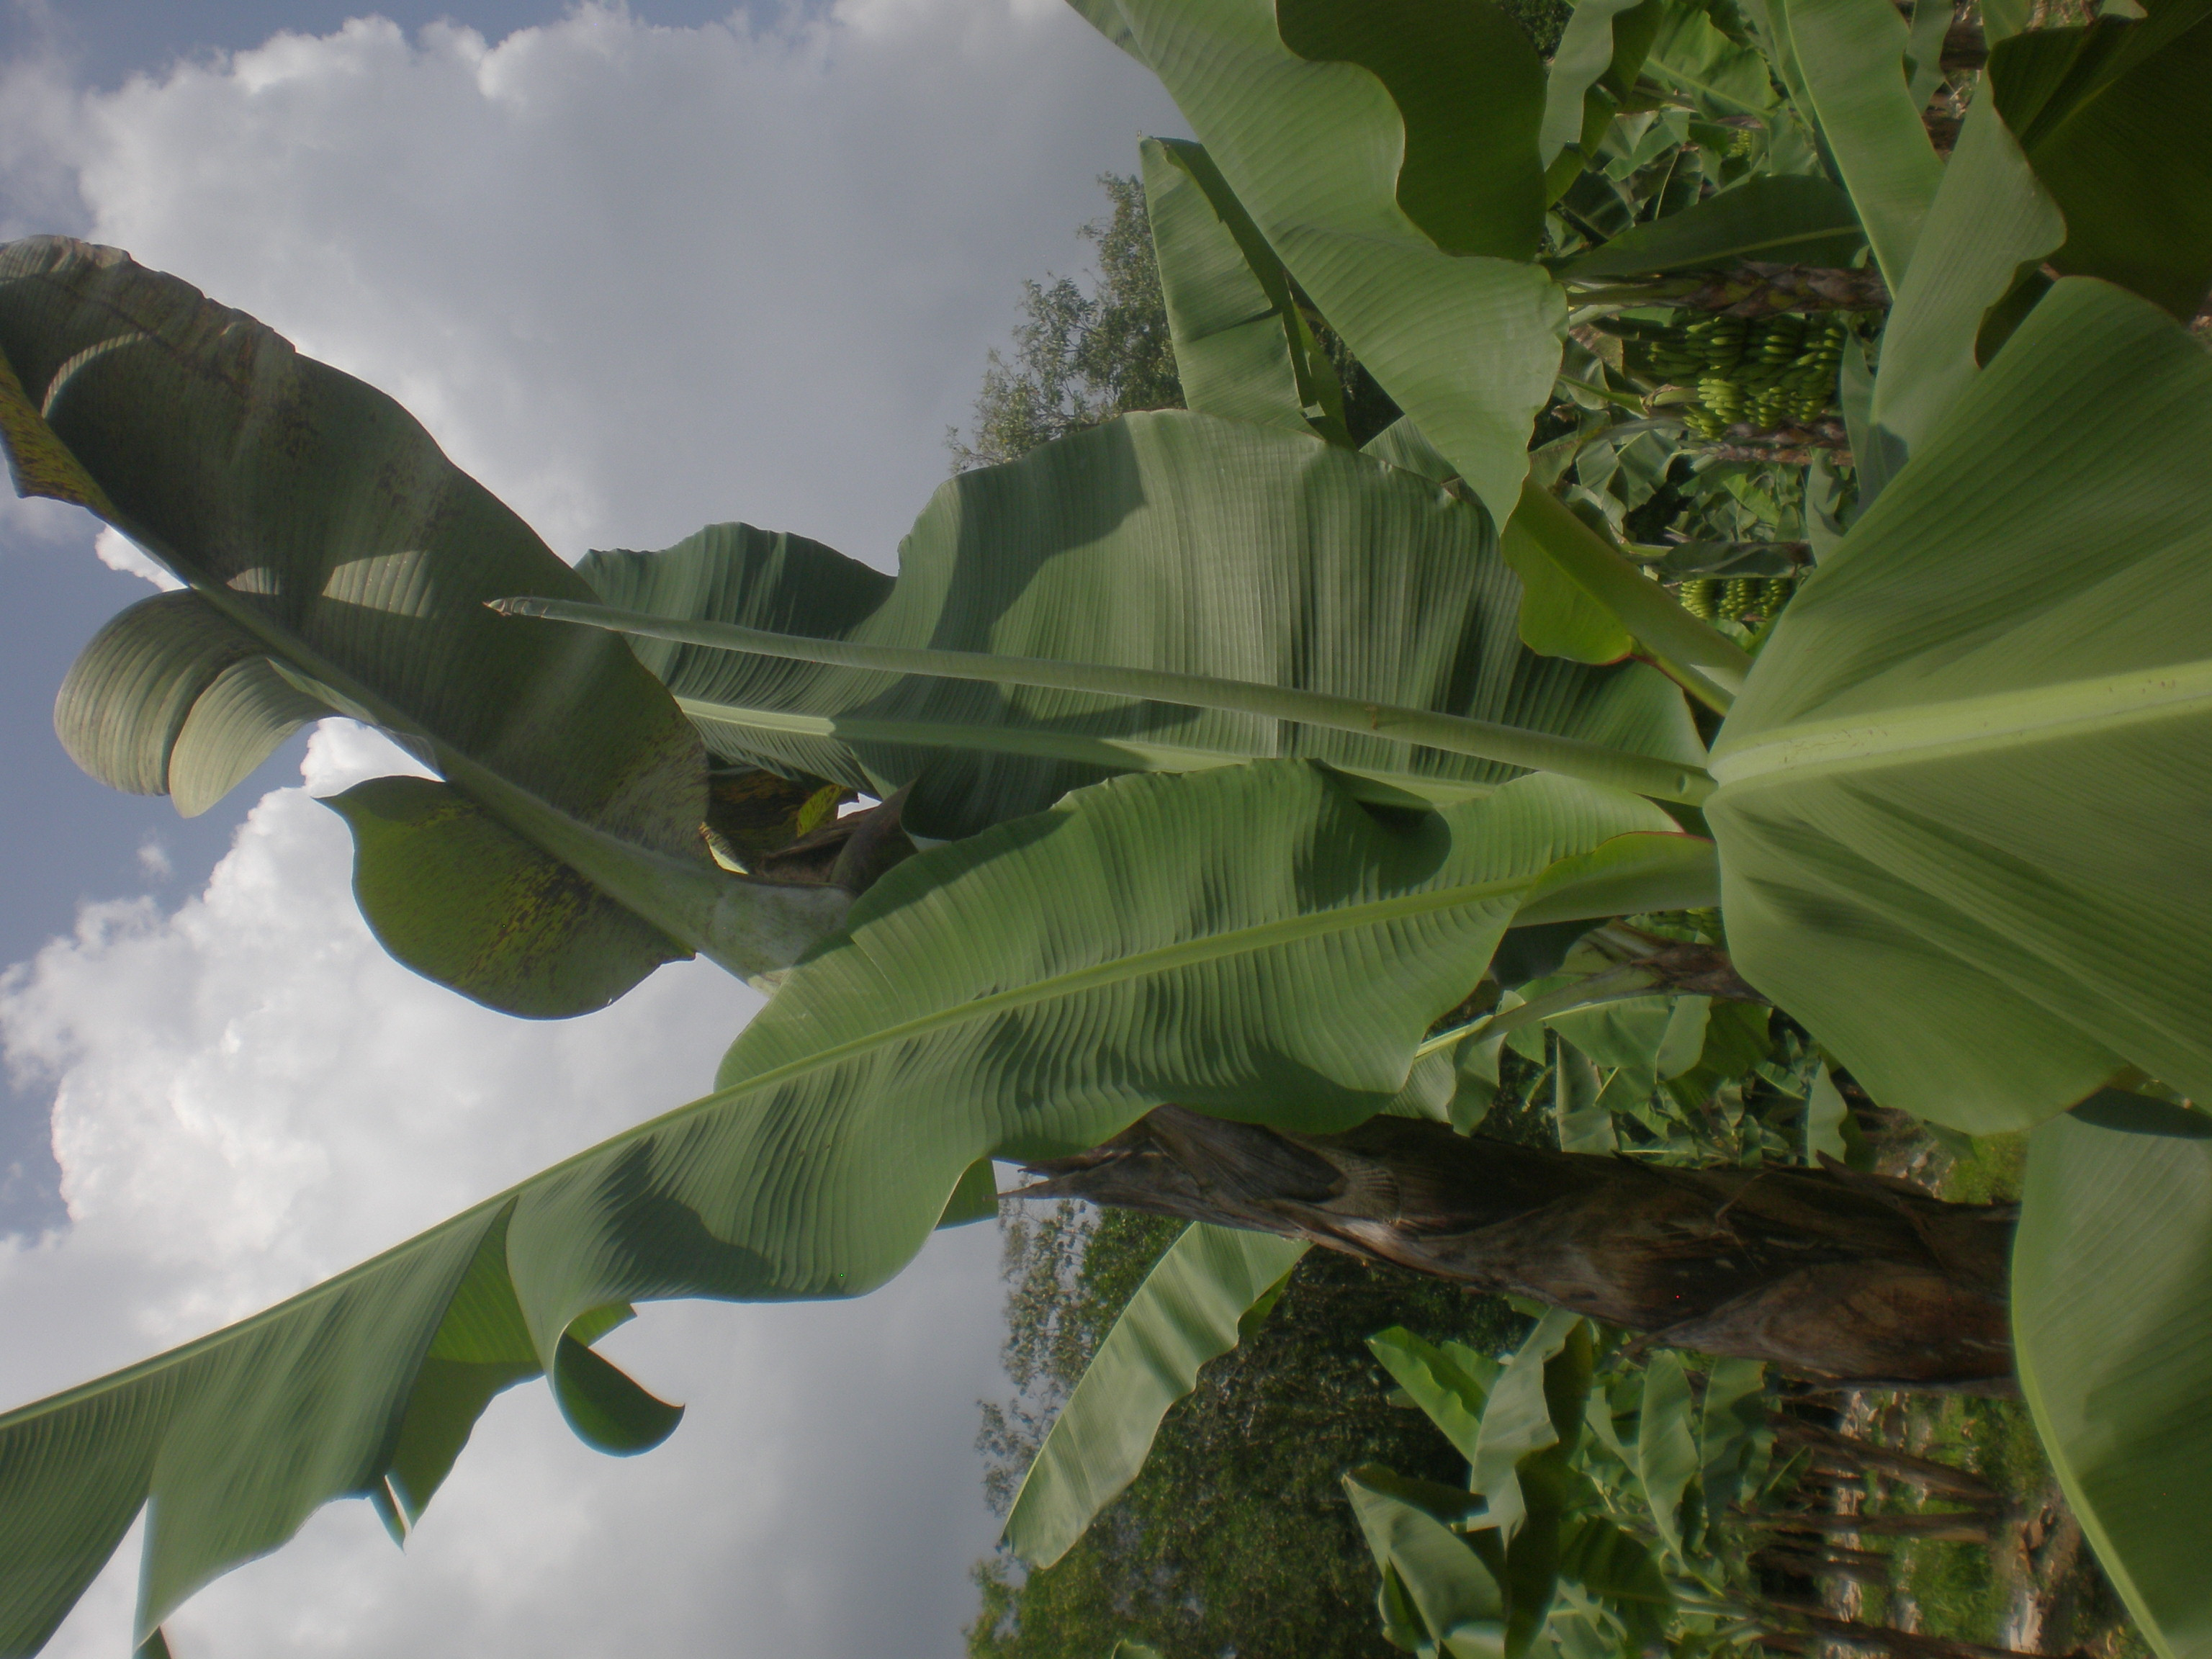candleleafs: (491, 601, 1709, 809)
